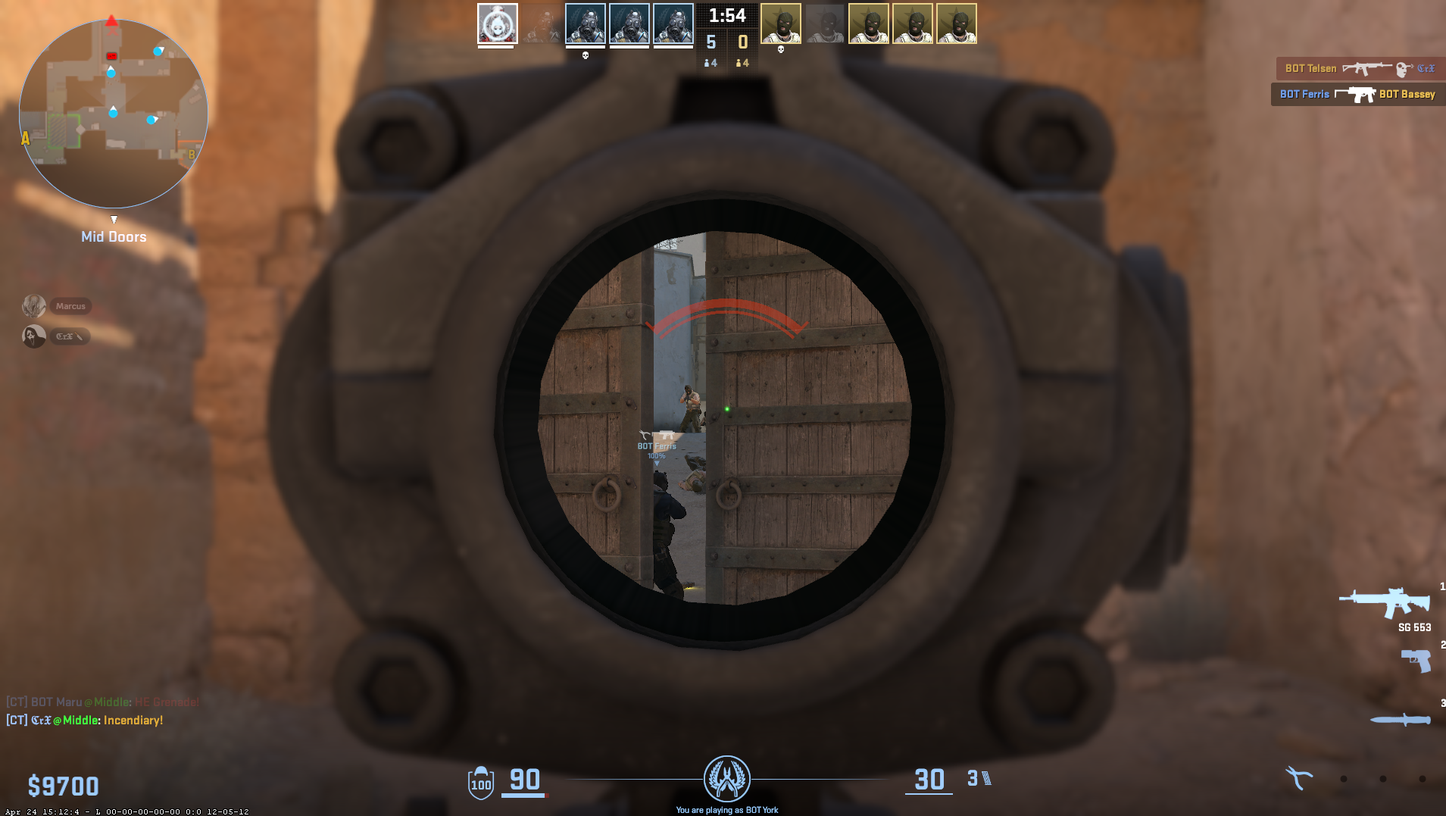CT: (654, 470, 686, 592)
T: (680, 385, 701, 433), (701, 412, 706, 427)
